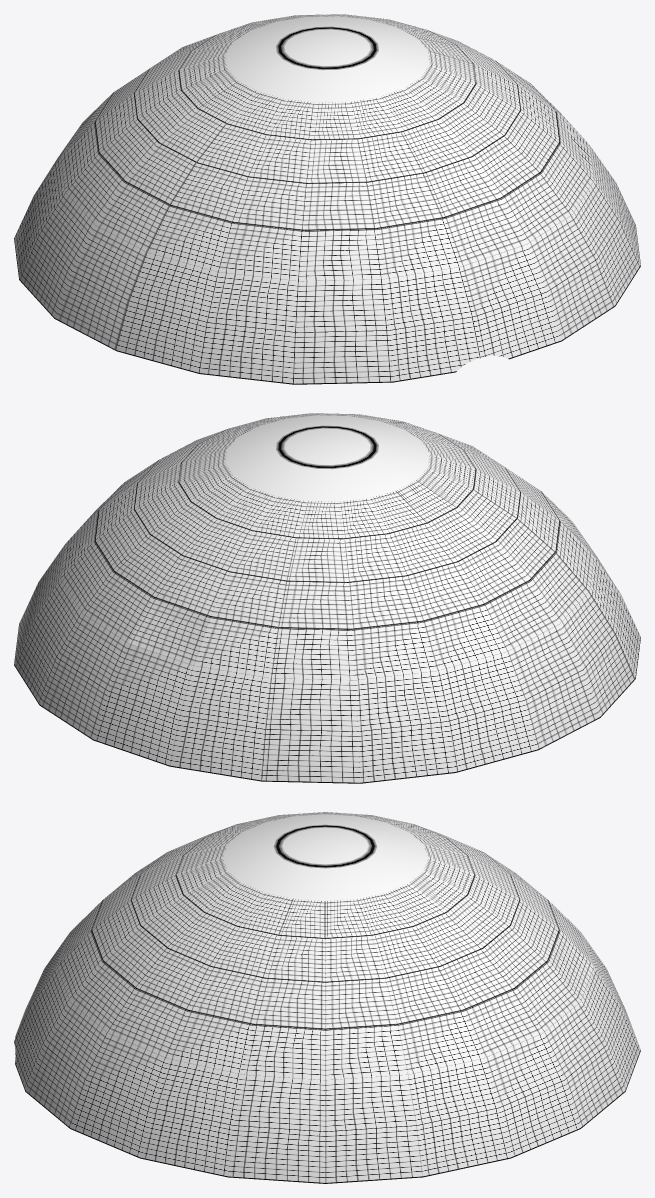
File: FachadaA.obj
The picture shows the model from 3 angles, top to bottom: view 1: azimuth 30°, elevation 25°; view 2: azimuth 150°, elevation 25°; view 3: azimuth 270°, elevation 25°; orthographic projection.
Parts seen in each view (by area): view 1: polySurface5 polySurface2 Fachada:polySurface2; view 2: polySurface5 polySurface2 Fachada:polySurface2; view 3: polySurface5 polySurface2 Fachada:polySurface2.
Boxes of the visible parts, <box> form: polySurface5 polySurface2 Fachada:polySurface2: <box>14,14,640,384</box>; polySurface5 polySurface2 Fachada:polySurface2: <box>14,413,640,783</box>; polySurface5 polySurface2 Fachada:polySurface2: <box>14,812,640,1183</box>.
Bounding box in the file's own units: 6.28 × 2.28 × 6.24.
Materials: 1 (1 with a texture image).
